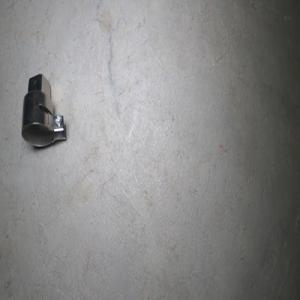MetalPart: (20, 72, 67, 147)
